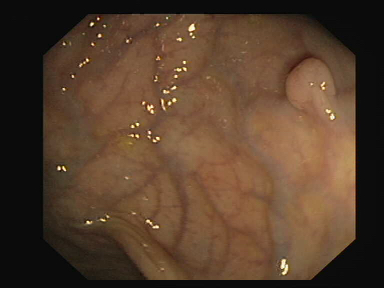polyp: (284, 56, 338, 119)
